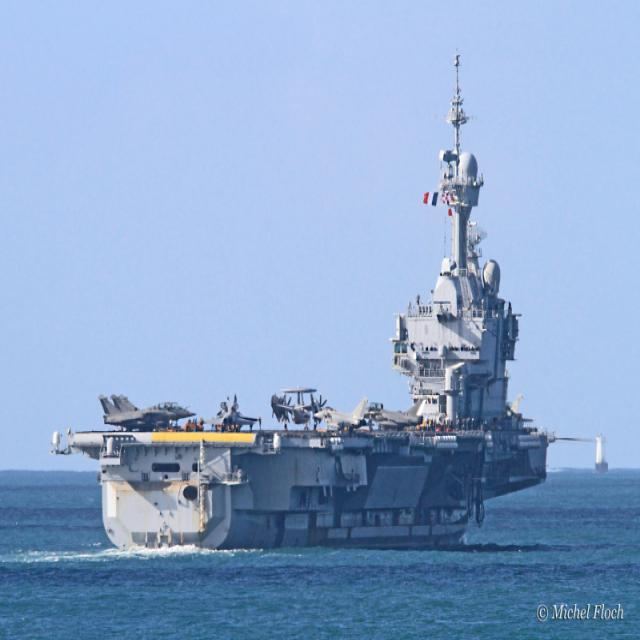Portanaves: (52, 38, 552, 562)
